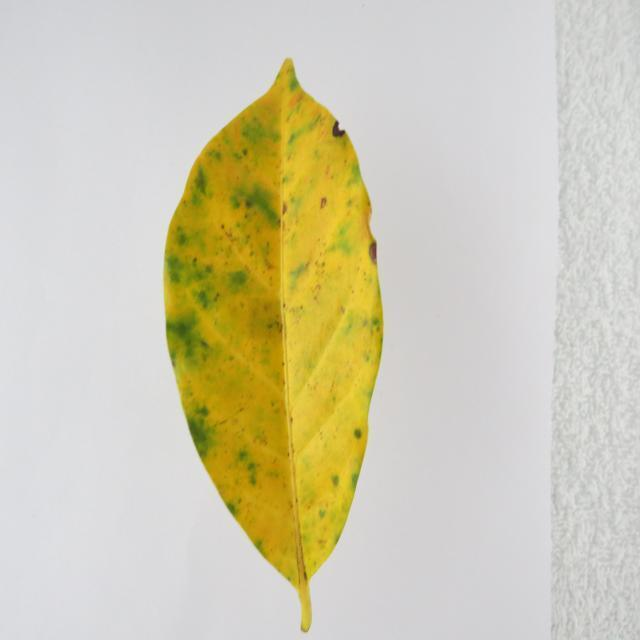DeficienciaNutricional-Nitrogeno: (168, 61, 380, 630)
